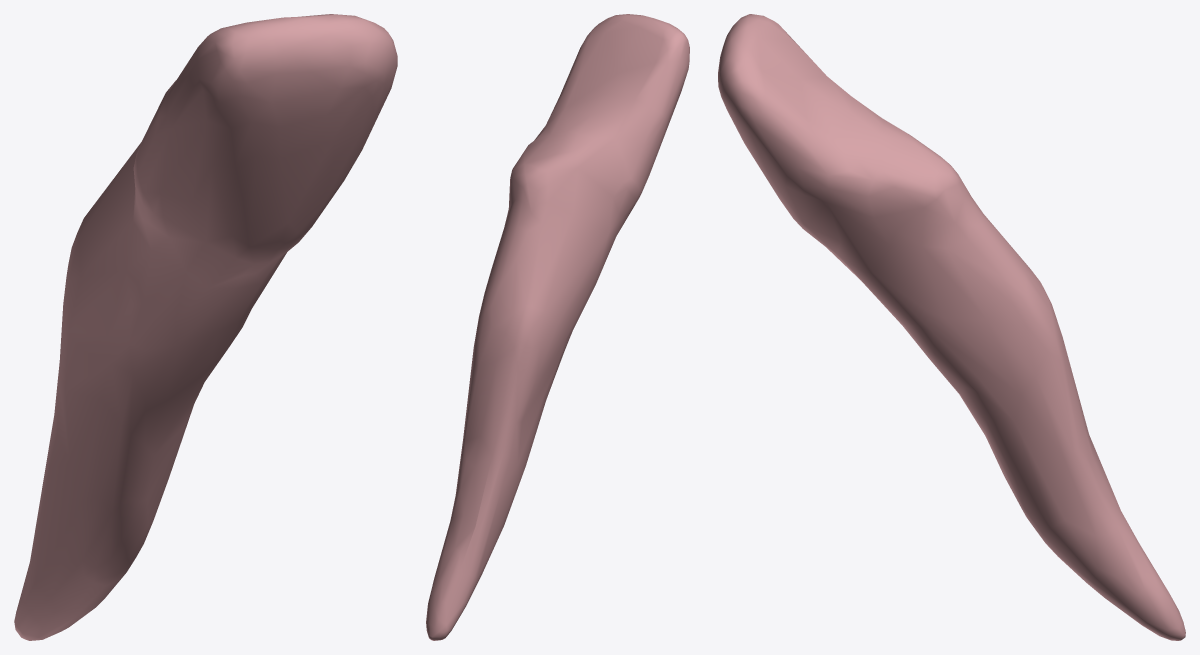
Rendered from fma57142_fj1272.glb.
3 views of the same model, side by side, from view 1: azimuth 30°, elevation 25°; view 2: azimuth 150°, elevation 25°; view 3: azimuth 270°, elevation 25° (orthographic). The views are drawn at different scales.
Visible parts, largest first — view 1: FMA57142_FJ1272; view 2: FMA57142_FJ1272; view 3: FMA57142_FJ1272.
Boxes of the visible parts, x1,y1,x2,y2 form: FMA57142_FJ1272: (14,14,397,640); FMA57142_FJ1272: (426,14,689,640); FMA57142_FJ1272: (718,14,1185,640).
Size of the model in its own units: 0.00587 by 0.0255 by 0.0182.
